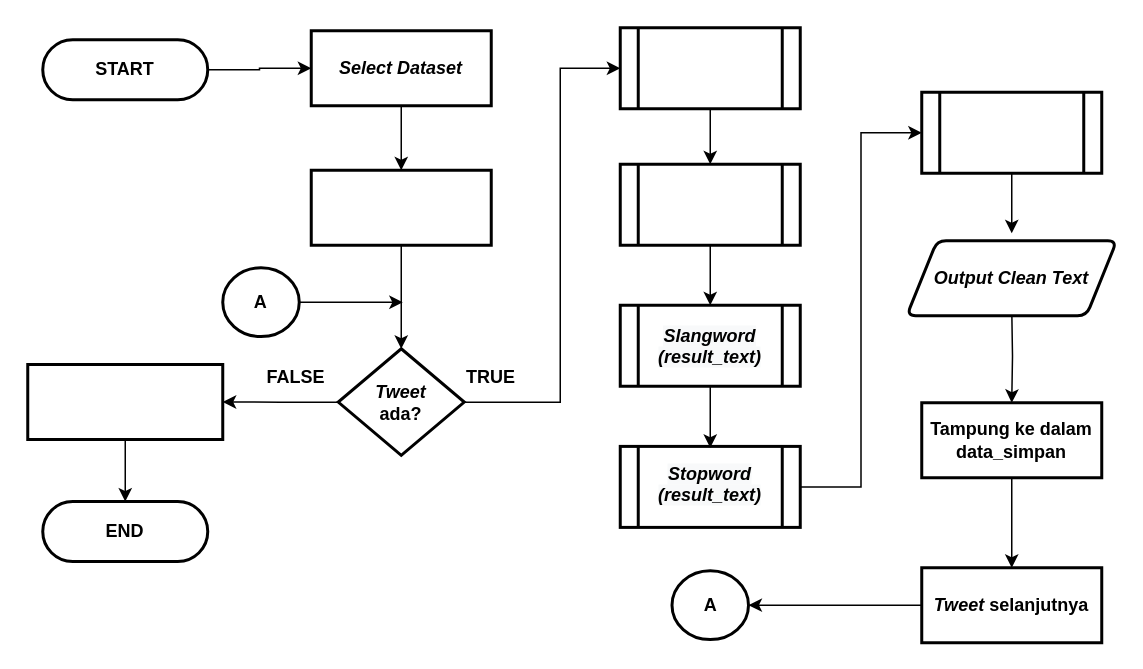
Image size: 1143x669. Some labels were removed from this diagram. Each missing label, with the box of its shape:
Casefolding (result_text ): (618, 26, 801, 110)
Cleansing (result_text ): (618, 162, 801, 246)
data_simpan = []: (309, 168, 492, 246)
Insert Database ( data_simpan): (26, 362, 224, 440)
Stemming (result_text ): (920, 90, 1102, 174)
